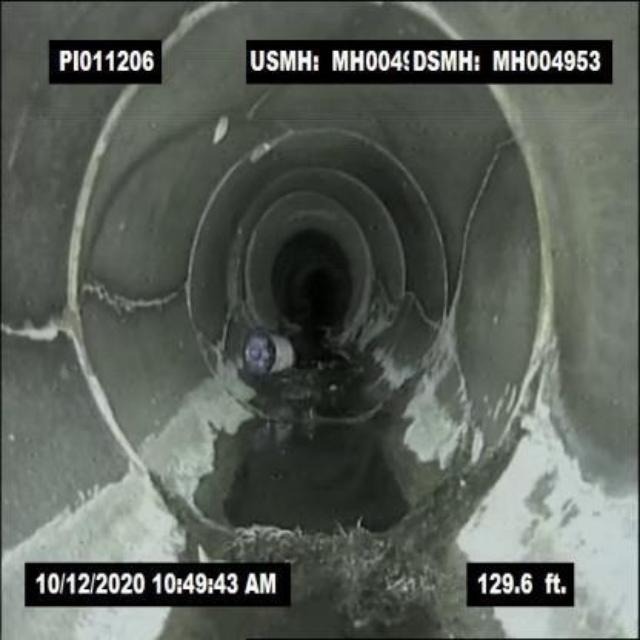Crack: (455, 145, 503, 317), (80, 277, 185, 312), (454, 343, 486, 457), (0, 315, 66, 345), (246, 86, 282, 123)
